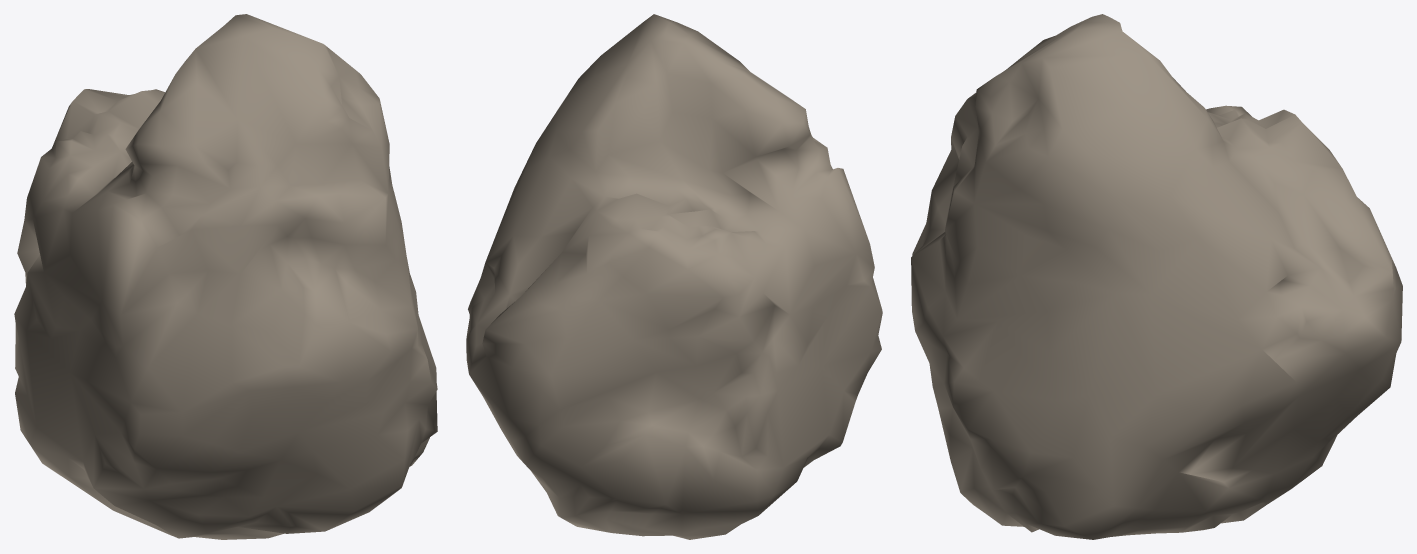
3 renders of one model, left to right at view 1: azimuth 30°, elevation 25°; view 2: azimuth 150°, elevation 25°; view 3: azimuth 270°, elevation 25°, orthographic. The views are drawn at different scales.
Visible parts, largest first — view 1: SM_Granite_01_LOD0; view 2: SM_Granite_01_LOD0; view 3: SM_Granite_01_LOD0.
Part boxes in pixels (x1,y1,x2,y2): SM_Granite_01_LOD0: (14, 14, 437, 539); SM_Granite_01_LOD0: (466, 14, 882, 539); SM_Granite_01_LOD0: (911, 14, 1402, 539).
Size of the model in its own units: 0.4155 by 0.5882 by 0.5203.
